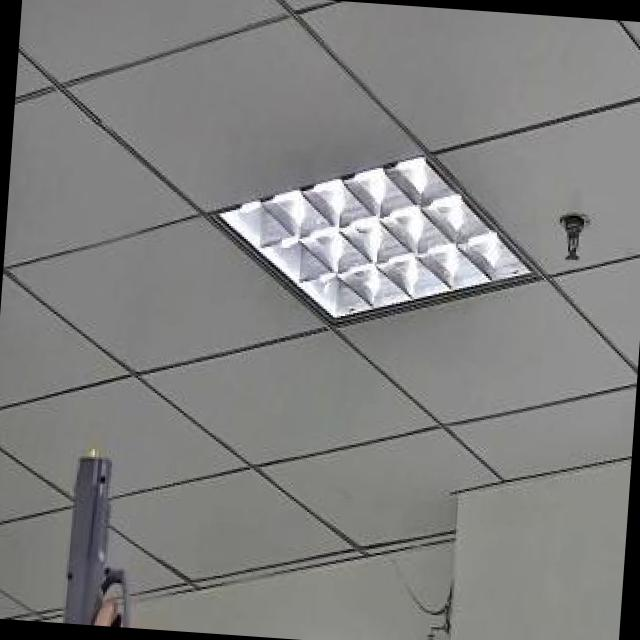Guns: (38, 406, 203, 632)
